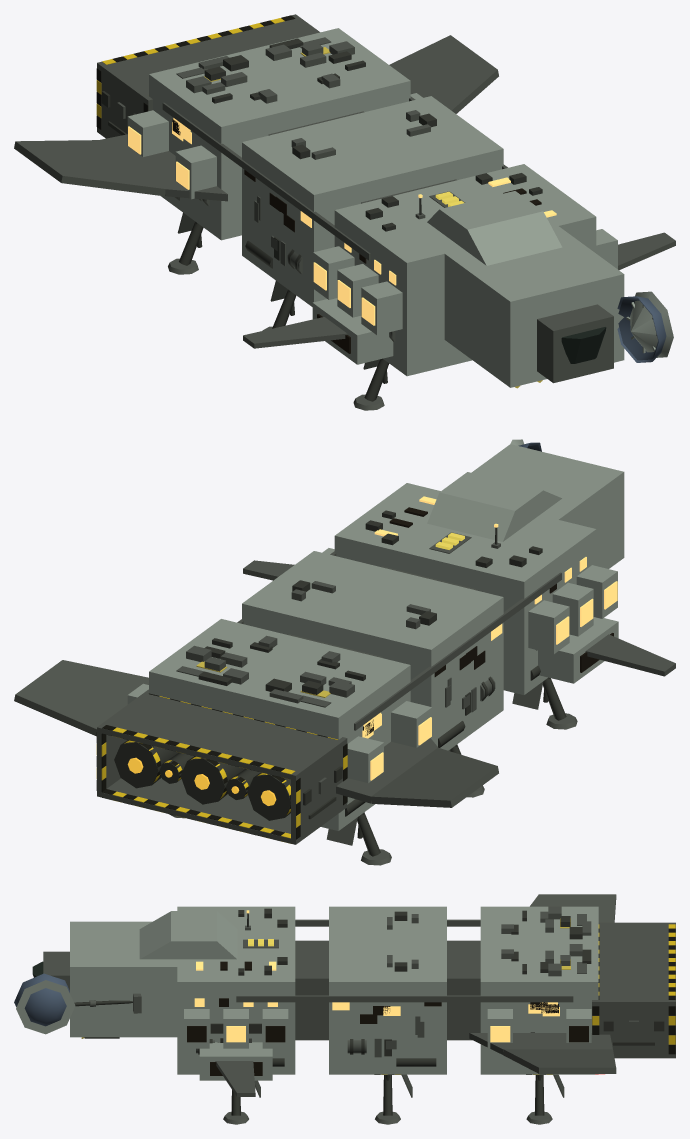
Rendered from liner-l(2).glb.
3 views of the same model, one above another, from view 1: azimuth 30°, elevation 25°; view 2: azimuth 150°, elevation 25°; view 3: azimuth 270°, elevation 25° (orthographic). The views are drawn at different scales.
Parts seen in each view (by area): view 1: hullSection1, hullSection2, hullNose, hullMain, canopyFairing, wingOuterLeft, shroudPlateTop, wingOuterRight, hullNoseTip, noseRelocatedBayL, wingInnerLeft, accentStripeL (+13 smaller); view 2: hullSection1, hullMain, hullSection2, shroudPlateTop, hullNose, canopyFairing, wingOuterRight, engineHousing (×3), wingOuterLeft, shroudPlateBottom, shroudPlateLeft, noseRelocatedBayL (+10 smaller); view 3: hullSection1, hullSection2, hullNose, hullMain, shroudPlateTop, canopyFairing, gantry0, gantry1, shroudPlateRight, wingOuterRight, accentStripeR, wingInnerRight (+14 smaller).
Boxes of the visible parts, x1,y1,x2,y2 form: hullSection1: (242,96,503,306); hullSection2: (149,28,410,240); hullNose: (444,223,624,387); hullMain: (334,164,596,376); canopyFairing: (427,191,562,265); wingOuterLeft: (14,140,165,196); shroudPlateTop: (97,14,319,105); wingOuterRight: (389,35,498,113); hullNoseTip: (537,304,613,383); noseRelocatedBayL: (312,298,393,364); wingInnerLeft: (99,134,227,201); accentStripeL: (162,102,370,260); hullSection1: (242,551,503,750); hullMain: (334,483,596,694); hullSection2: (149,619,410,830); shroudPlateTop: (97,689,347,780); hullNose: (471,444,624,568); canopyFairing: (427,472,561,541); wingOuterRight: (14,660,148,736); engineHousing (×3): (114,740,290,820); wingOuterLeft: (371,747,498,807); shroudPlateBottom: (97,778,347,844); shroudPlateLeft: (291,744,345,839); noseRelocatedBayL: (538,617,618,683); hullSection1: (329,906,446,1074); hullSection2: (480,906,598,1074); hullNose: (70,921,177,1037); hullMain: (177,906,295,1074); shroudPlateTop: (592,922,675,1005); canopyFairing: (139,911,237,959); gantry0: (295,940,328,1040); gantry1: (447,940,480,1040); shroudPlateRight: (592,1006,675,1054); wingOuterRight: (503,1049,616,1073); accentStripeR: (236,995,573,1002); wingInnerRight: (469,1033,612,1054).
Bounding box in the file's own units: 6.47 × 2.68 × 10.37.
